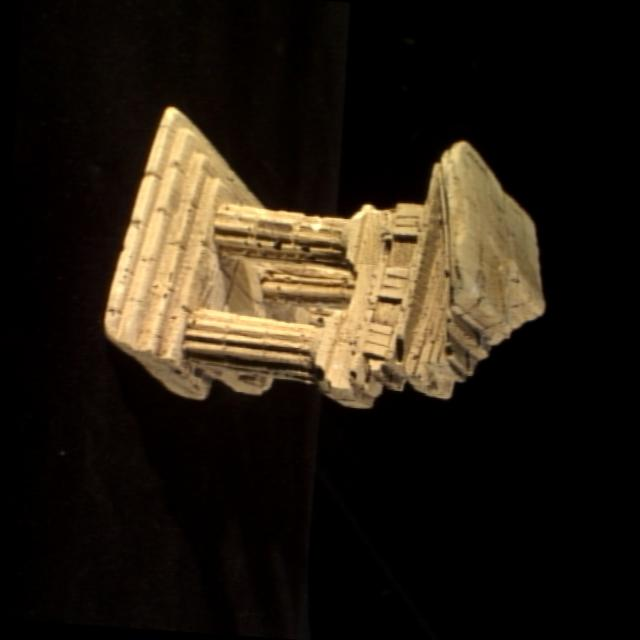Instance-Segmentation: (104, 106, 542, 406)
